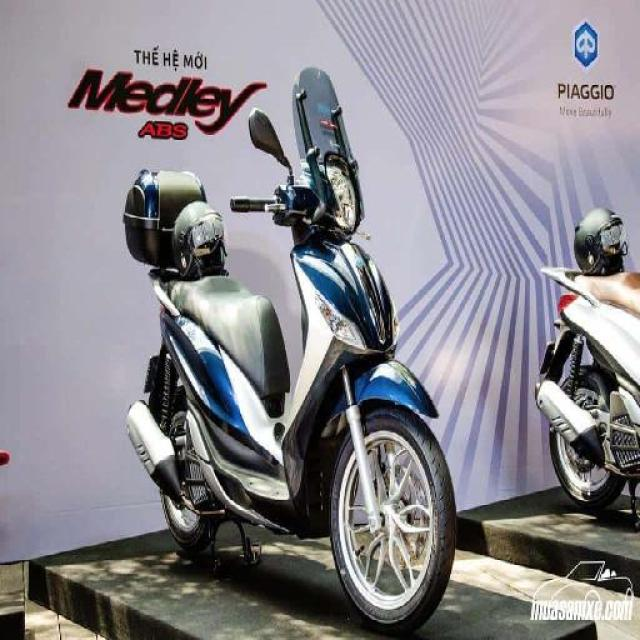All: (118, 142, 458, 632)
Head: (232, 150, 362, 232)
Tail: (138, 268, 198, 330)
